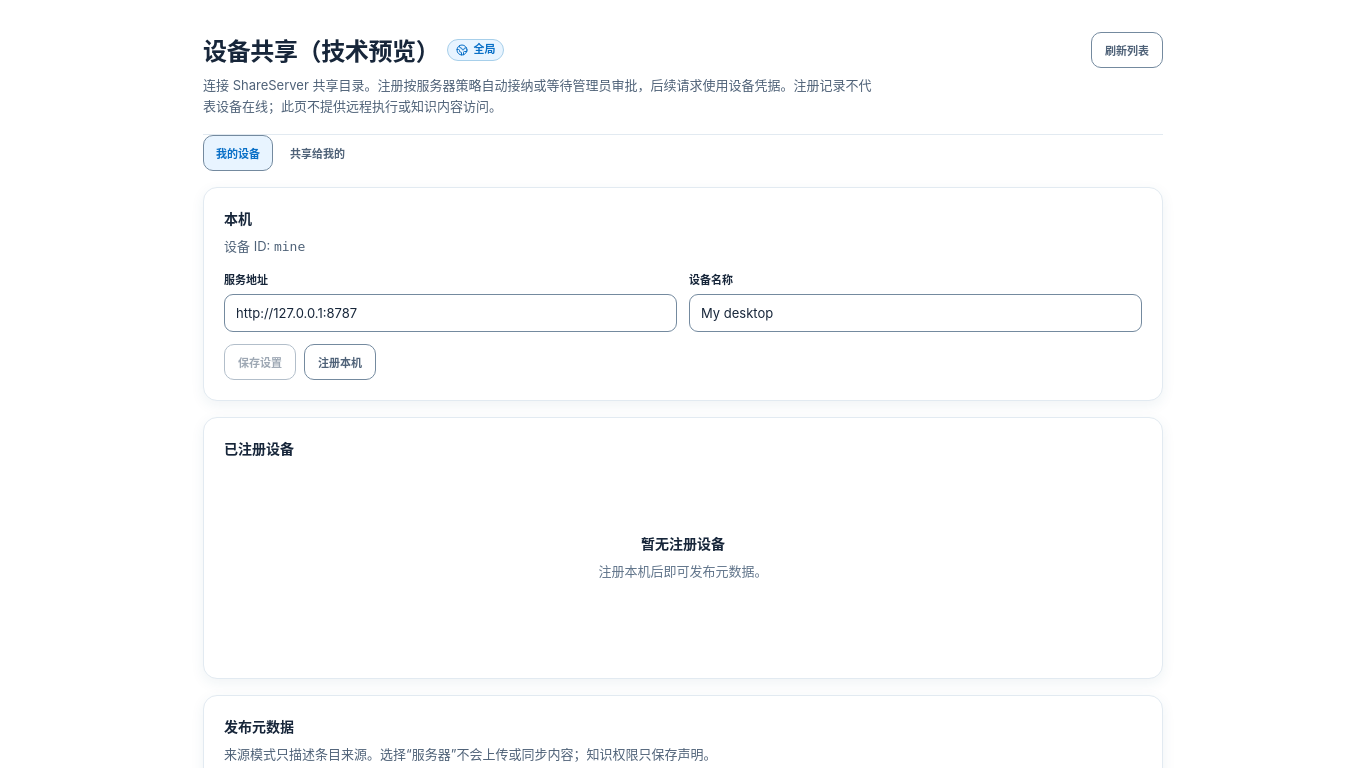
Test: shows pending, rejection and disabled status without enabling publication
Click the button "刷新列表".
click(1127, 50)  # box top-left (1091, 32), bottom-right (1163, 68)
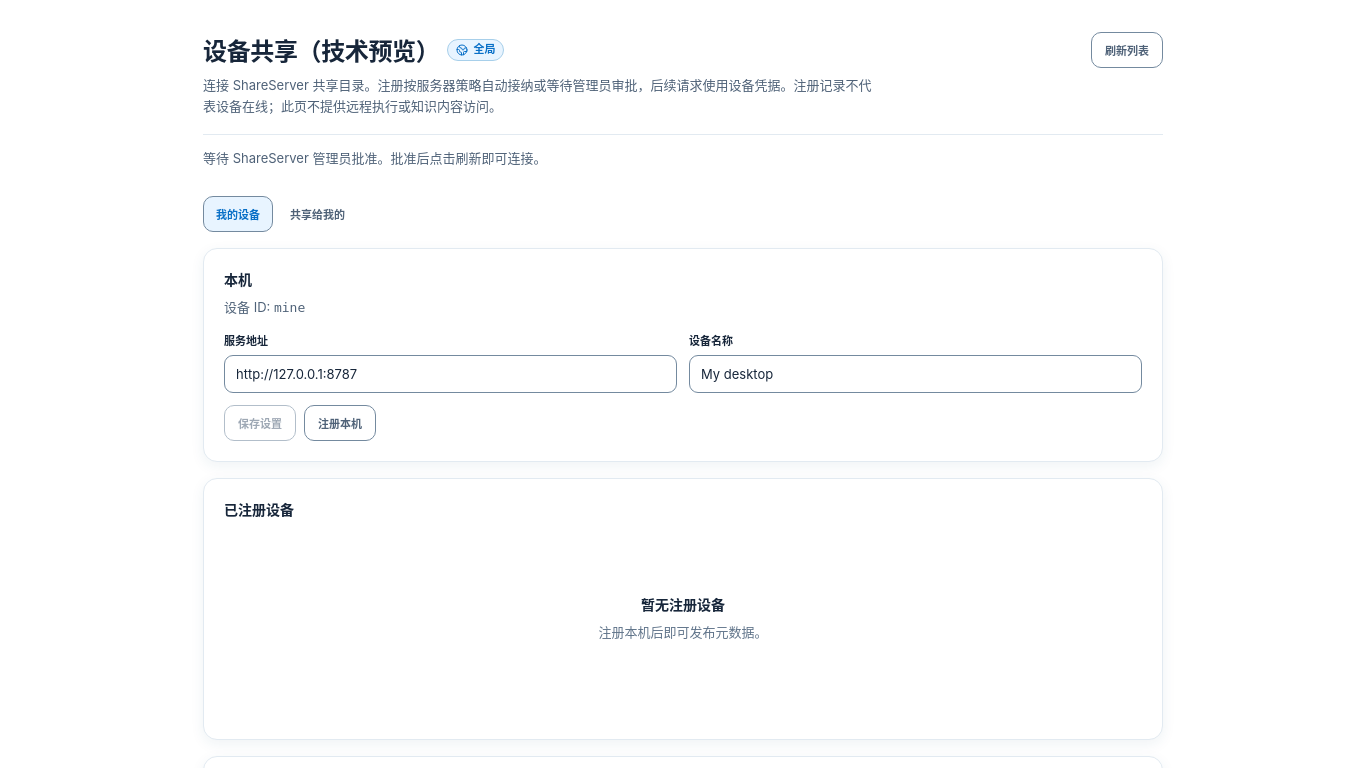
Check: the text "等待 ShareServer 管理员批准。批准后点击刷新即可连接。" is shown, box top-left (203, 150), bottom-right (546, 166)
Click the button "刷新列表".
click(1127, 50)  # box top-left (1091, 32), bottom-right (1163, 68)
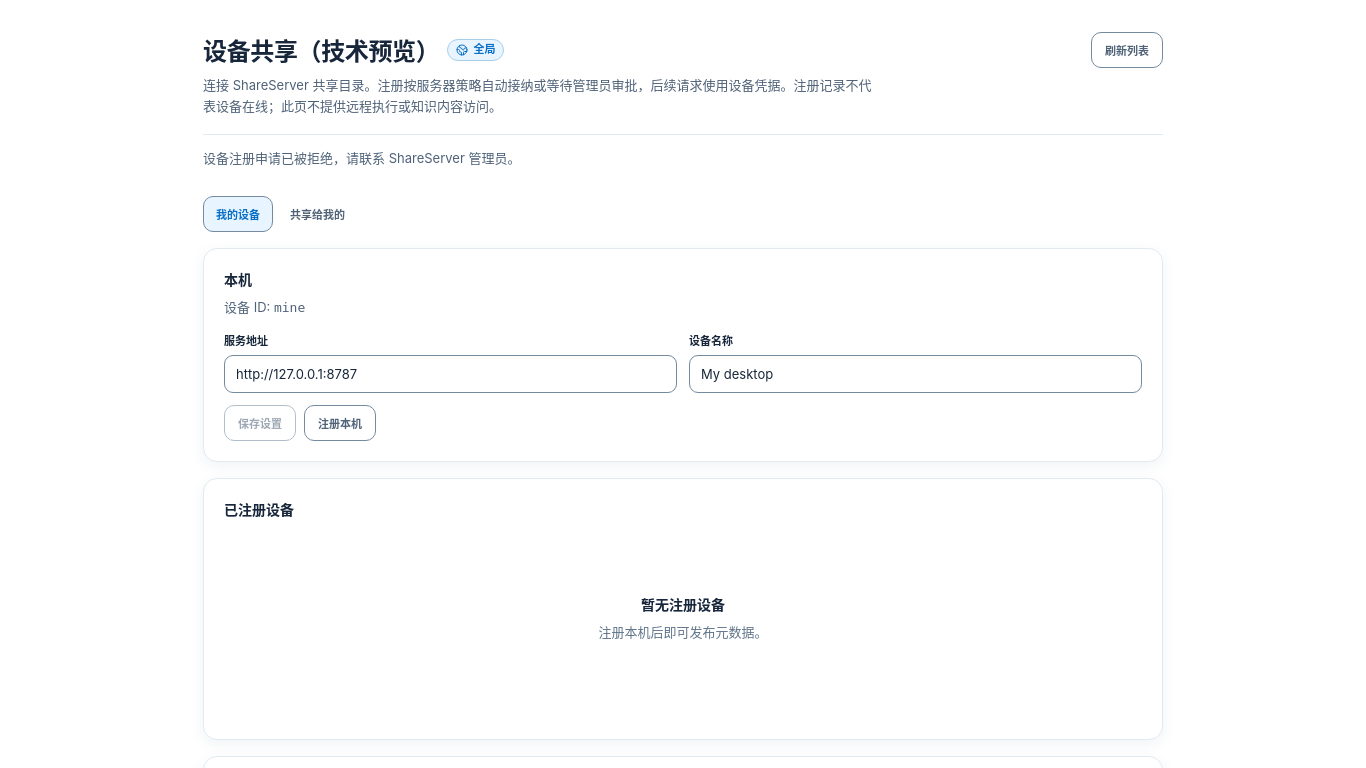
Check: the text "设备注册申请已被拒绝，请联系 ShareServer 管理员。" is shown, box top-left (203, 150), bottom-right (520, 166)
Click the button "刷新列表".
click(1127, 50)  # box top-left (1091, 32), bottom-right (1163, 68)
(page scrolled)
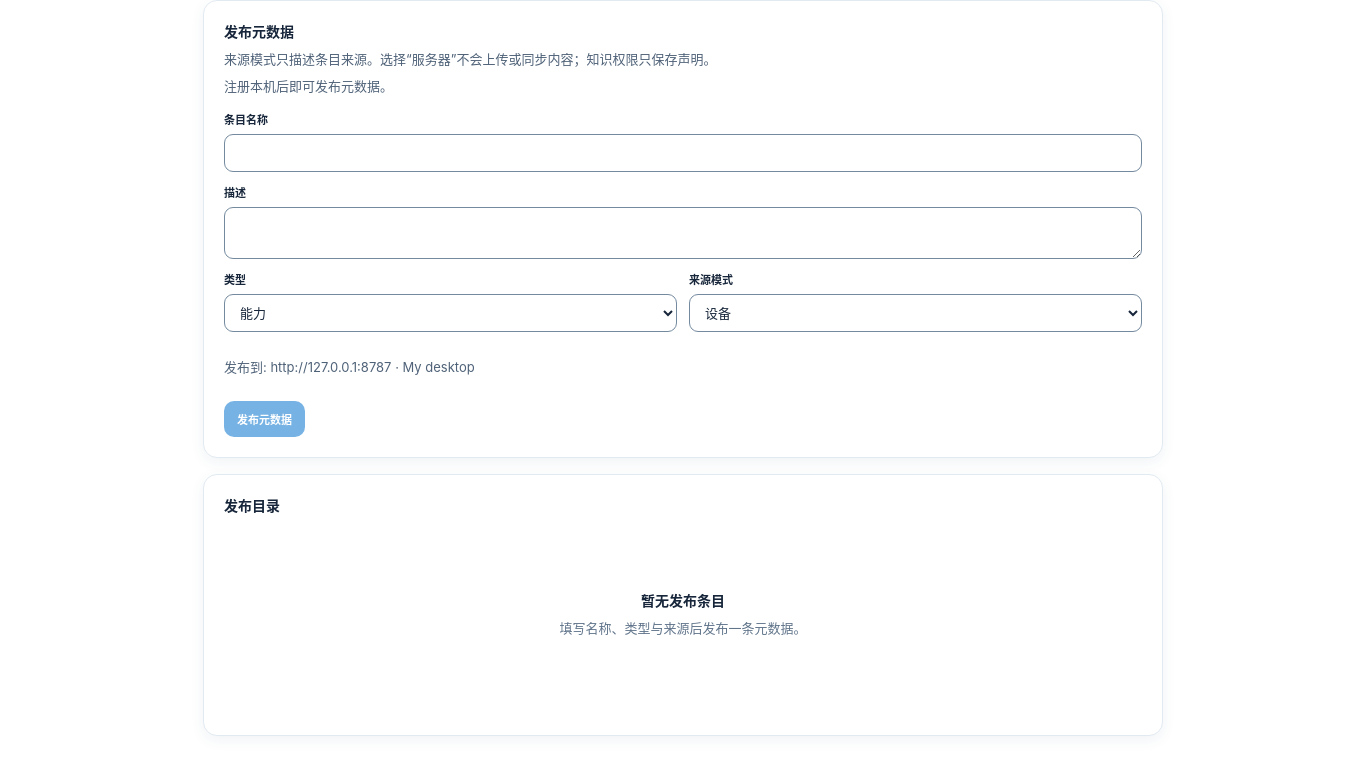
Check: the button "发布元数据" is disabled, box top-left (224, 401), bottom-right (305, 437)
